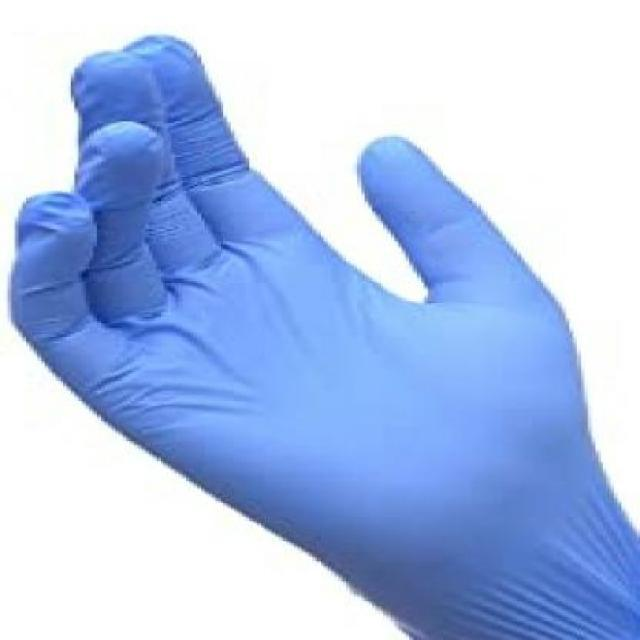Gloves: (14, 25, 640, 640)
